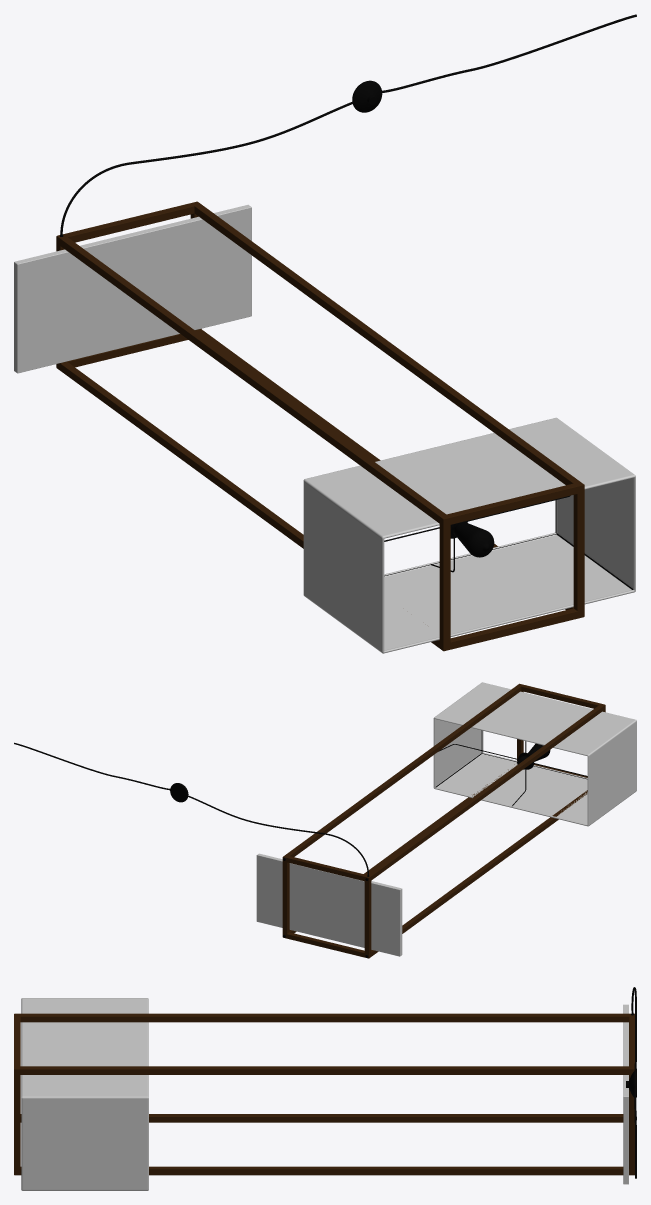
Rendered from CB2_Dauphine_Floor_Lamp.obj.
The picture shows the model from 3 angles, top to bottom: view 1: azimuth 30°, elevation 25°; view 2: azimuth 150°, elevation 25°; view 3: azimuth 270°, elevation 25°; orthographic projection. The views are drawn at different scales.
Parts seen in each view (by area): view 1: CB2_Dauphine_Floor_Lamp; view 2: CB2_Dauphine_Floor_Lamp; view 3: CB2_Dauphine_Floor_Lamp.
Part boxes in pixels (left/top/right/bottom): CB2_Dauphine_Floor_Lamp: left=14, top=14, right=636, bottom=653; CB2_Dauphine_Floor_Lamp: left=14, top=682, right=636, bottom=958; CB2_Dauphine_Floor_Lamp: left=14, top=987, right=636, bottom=1190.
Bounding box in the file's own units: 151 × 48.05 × 159.
